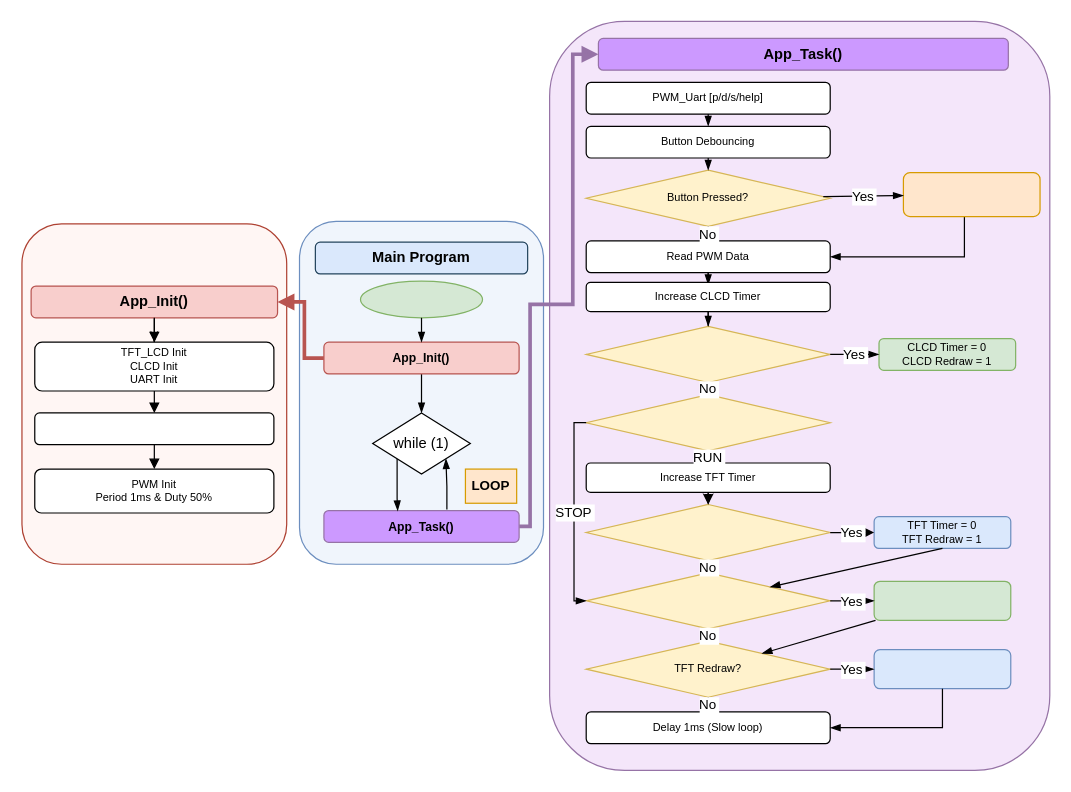
Some shapes in this 1071 by 792 pixel diagram are drawn without their labels. The box of each missing label's shape, as (x1, y1, x2, y2) in pixels:
Apply Settings & Trigger Immediate Redraw: (902, 171, 1040, 217)
Button Init & Set Ready: (34, 412, 274, 445)
CLCD Redraw?: (585, 572, 830, 629)
CLCD Timer >= 500ms?: (585, 325, 830, 382)
Redraw CLCD CLCD Redraw = 0: (873, 580, 1011, 620)
Redraw TFT TFT Redraw = 0: (873, 648, 1011, 689)
RUN / STOP state?: (585, 393, 830, 451)
START: (359, 280, 483, 318)
TFT Timer >= 1500ms?: (585, 503, 830, 561)
